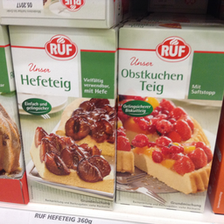cake: (8, 25, 118, 211), (118, 20, 224, 208)
